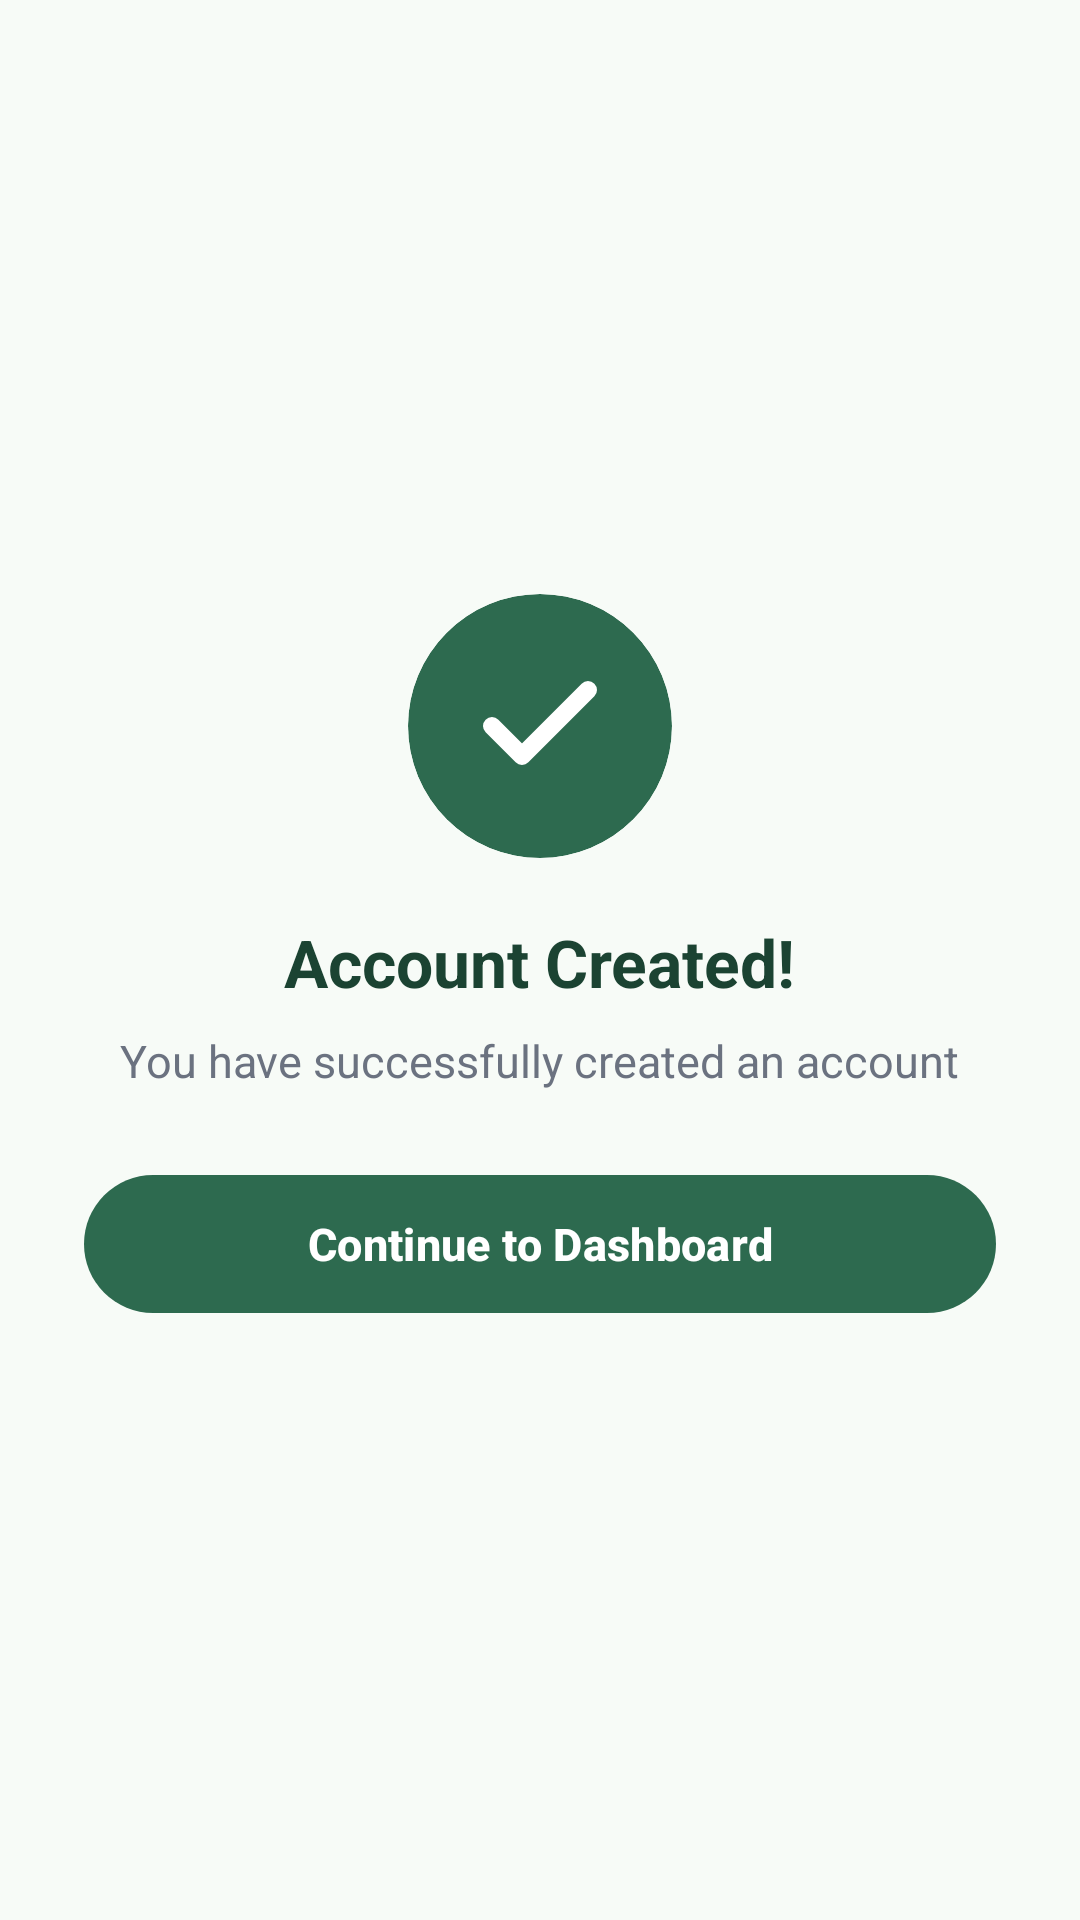

Icon click points for this 1080px×1920px phone screenshot, format point (x, y):
Success: point (540, 723)
